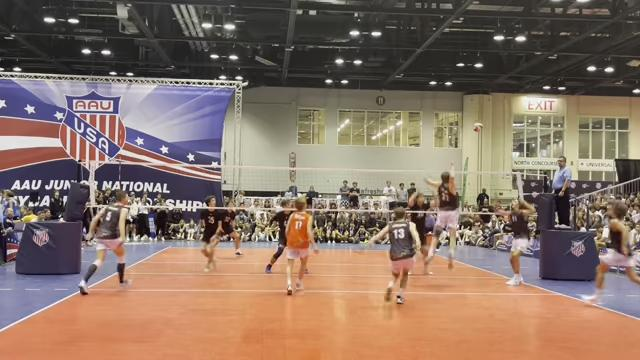Attack: (425, 155, 462, 275)
Player: (583, 201, 639, 303), (78, 190, 130, 294), (369, 208, 420, 303), (492, 194, 533, 291), (286, 197, 318, 294), (408, 192, 432, 274), (265, 199, 290, 273), (215, 199, 242, 255), (200, 196, 219, 271)
ball: (473, 121, 484, 133)
